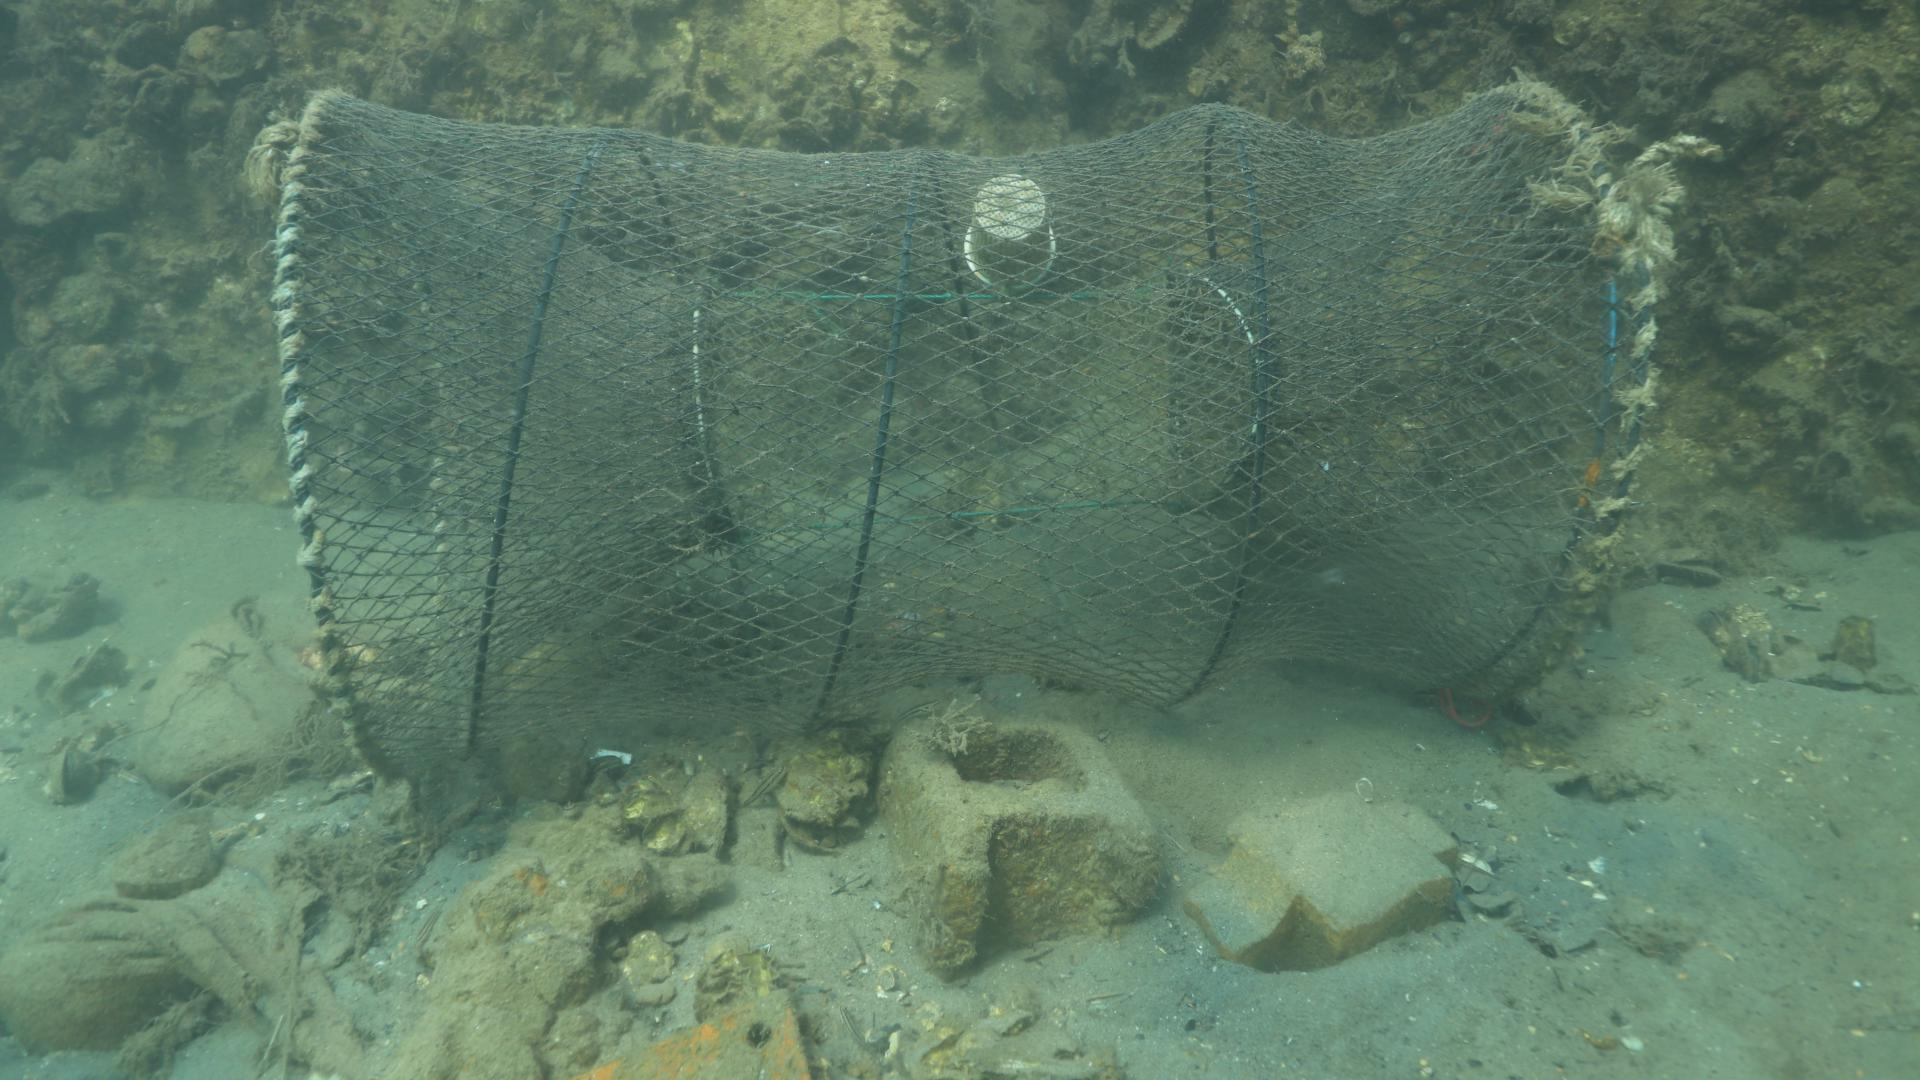spring fish trap: (272, 76, 1654, 783)
